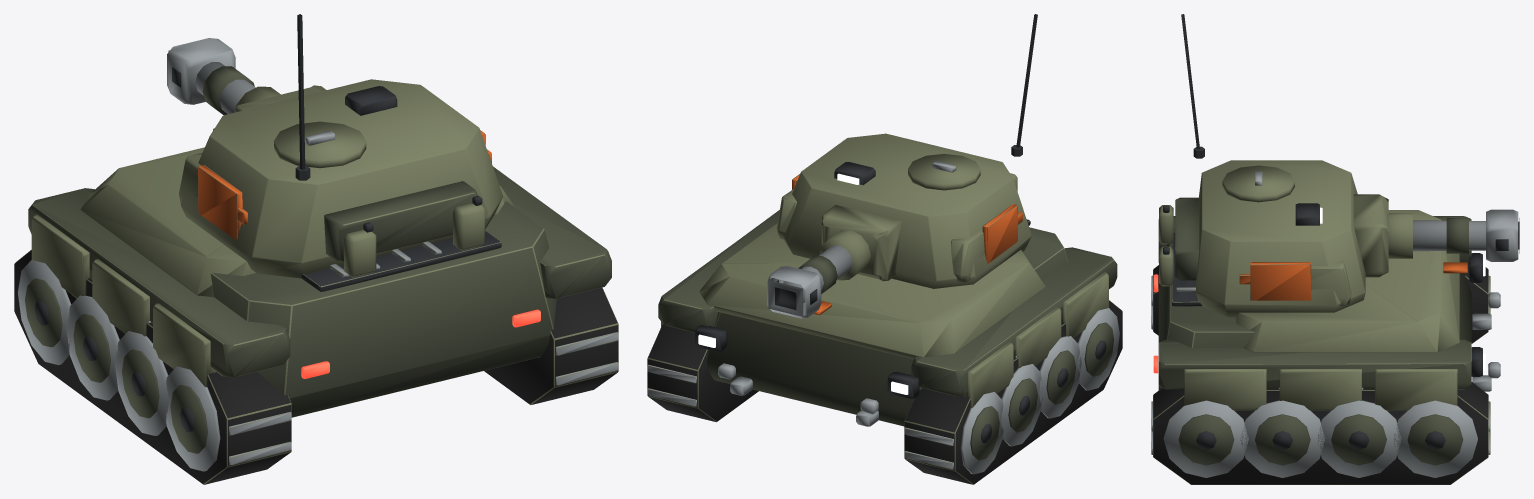
The model's file is tank.glb.
3 views of the same model, side by side, from view 1: azimuth 30°, elevation 25°; view 2: azimuth 150°, elevation 25°; view 3: azimuth 270°, elevation 25° (orthographic). The views are drawn at different scales.
Parts seen in each view (by area): view 1: tank_body, tank_turret, tank_track_L, tank_track_R, tank_barrel; view 2: tank_body, tank_turret, tank_track_L, tank_track_R, tank_barrel, tank_mantlet; view 3: tank_body, tank_track_R, tank_turret, tank_barrel, tank_mantlet, tank_track_L.
Part boxes in pixels (x1=…): tank_body: x1=28, y1=128, x2=611, y2=417; tank_turret: x1=179, y1=14, x2=502, y2=278; tank_track_L: x1=14, y1=250, x2=291, y2=484; tank_track_R: x1=484, y1=287, x2=618, y2=404; tank_barrel: x1=167, y1=38, x2=280, y2=114; tank_body: x1=658, y1=173, x2=1117, y2=426; tank_turret: x1=777, y1=14, x2=1037, y2=288; tank_track_L: x1=904, y1=300, x2=1122, y2=484; tank_track_R: x1=647, y1=324, x2=758, y2=422; tank_barrel: x1=767, y1=229, x2=870, y2=318; tank_mantlet: x1=820, y1=205, x2=901, y2=281; tank_body: x1=1153, y1=205, x2=1500, y2=410; tank_track_R: x1=1151, y1=382, x2=1490, y2=484; tank_turret: x1=1175, y1=14, x2=1365, y2=317; tank_barrel: x1=1387, y1=209, x2=1519, y2=261; tank_mantlet: x1=1353, y1=194, x2=1388, y2=277; tank_track_L: x1=1151, y1=264, x2=1490, y2=343.
Size of the model in its own units: 0.8928 by 0.9507 by 0.8928.
3 materials, 2 textured.
